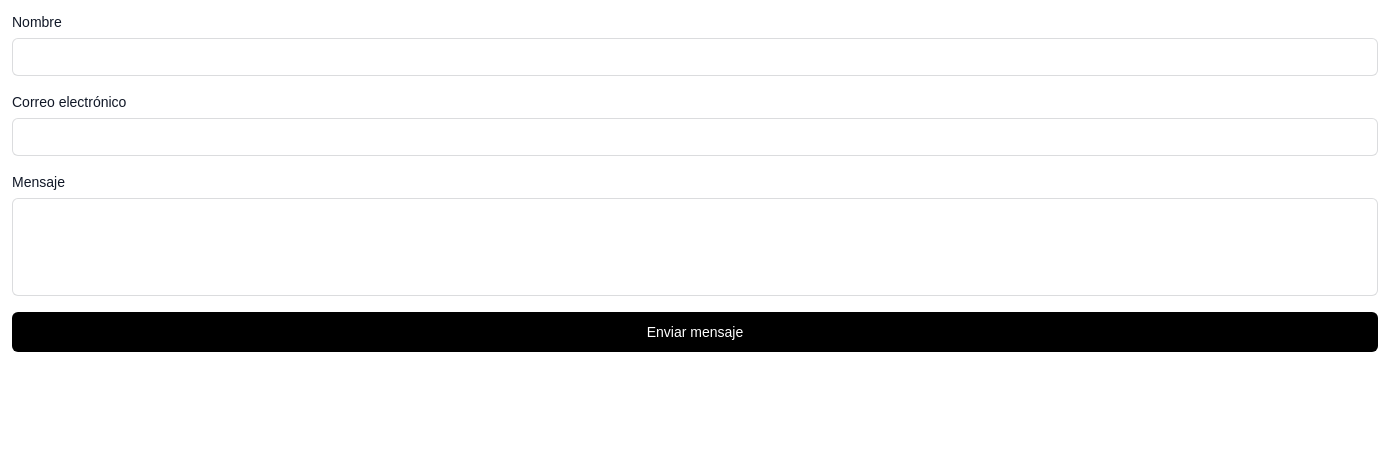
ContactFormSection › shows generic error alert when fetch returns non-ok
Type "Jane Doe" into the field below "Nombre". click: {"x": 695, "y": 57}
box: [12,38,1378,76]
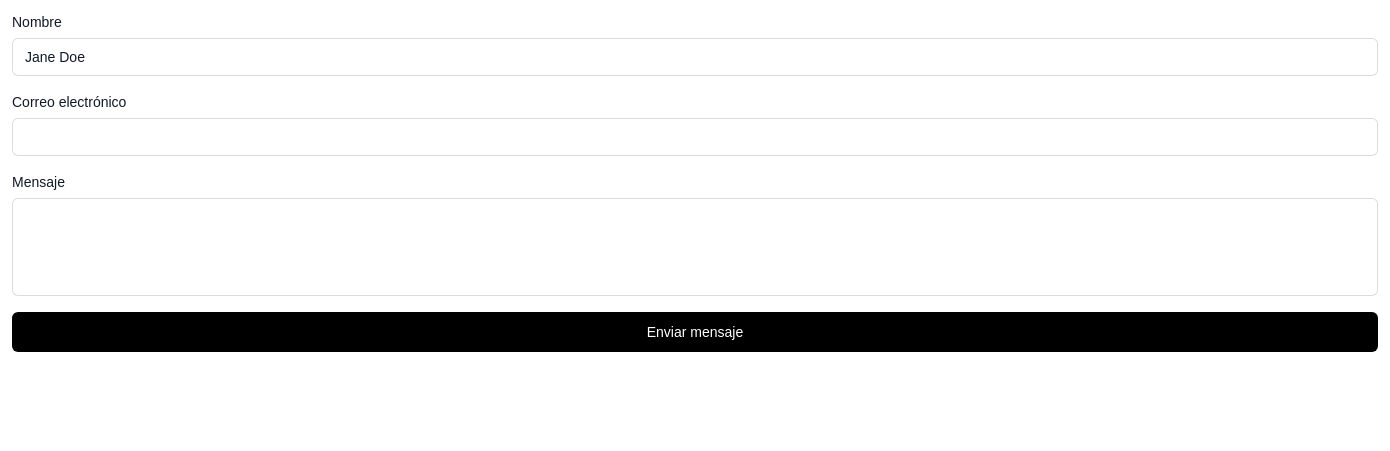
Type "jane@example.com" into the field below "Correo electrónico". click: {"x": 695, "y": 137}
box: [12,118,1378,156]
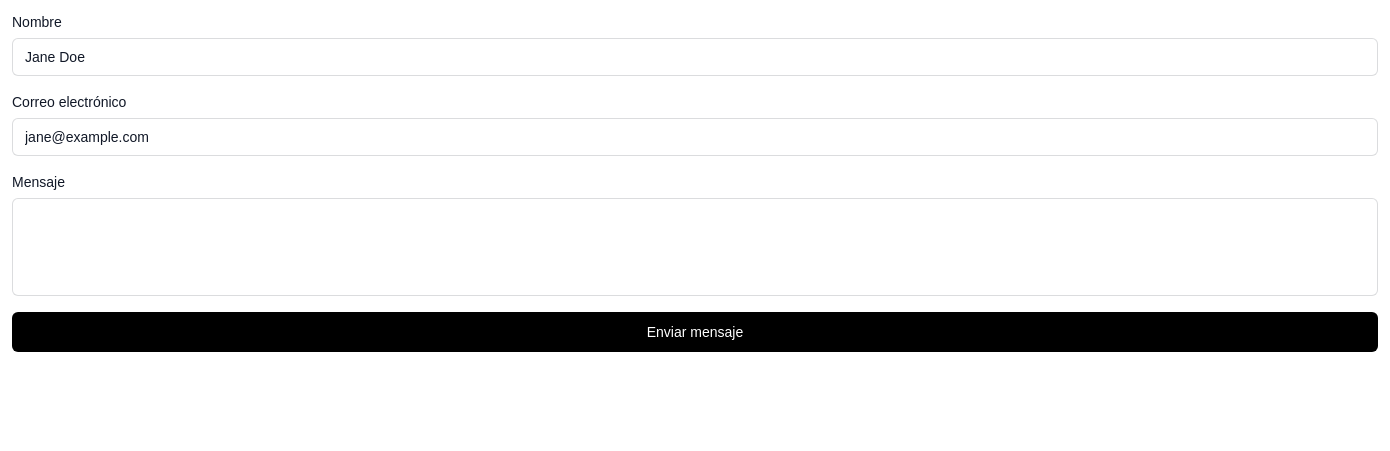
Type "Hello there" into the text box. click: {"x": 695, "y": 247}
box: [12,198,1378,296]
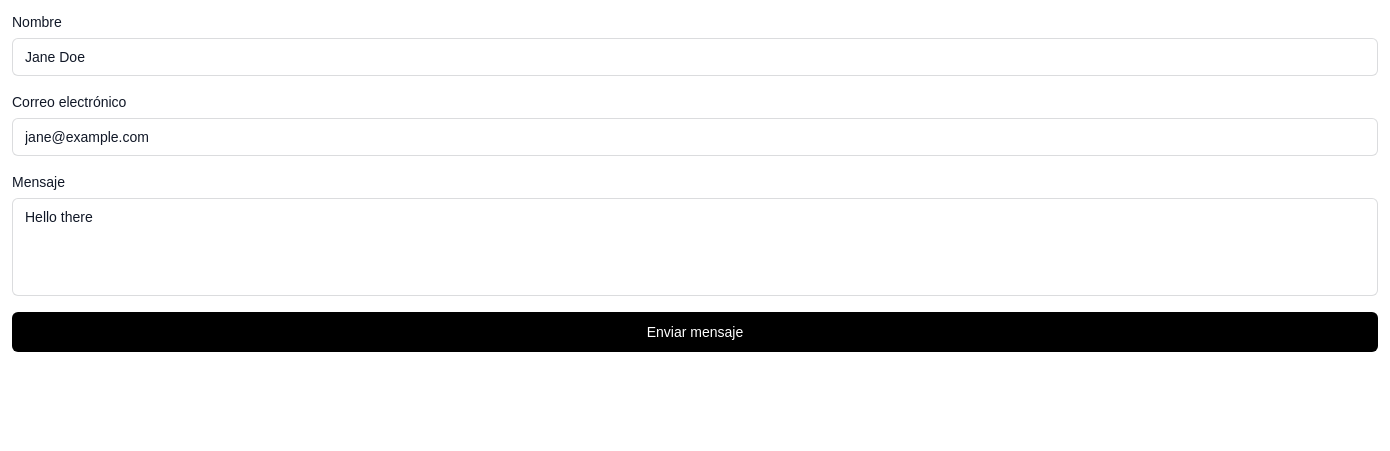
Submit the form
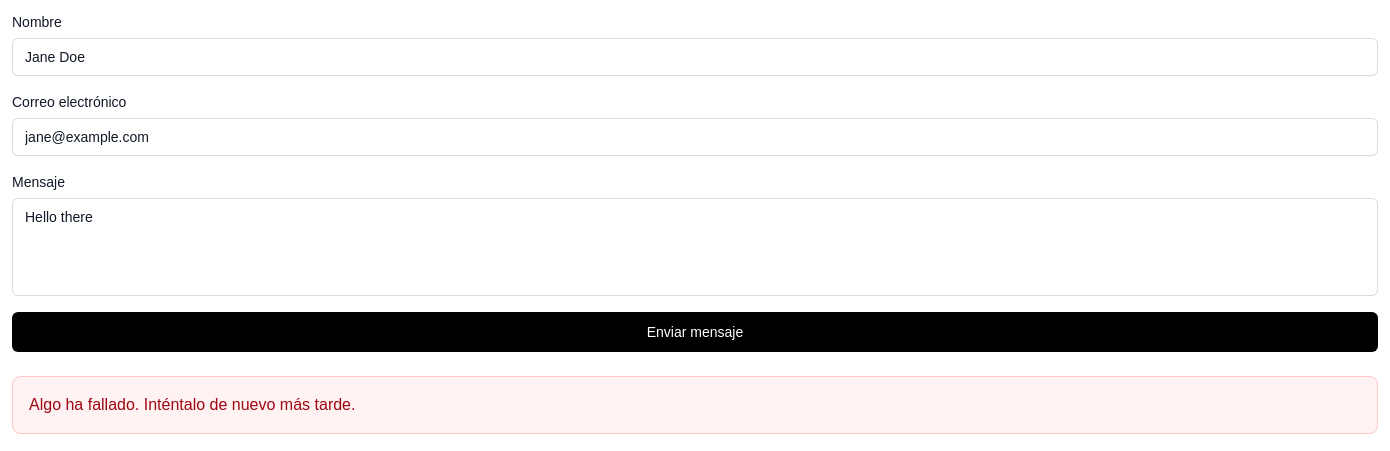
Expected: the text "Algo ha fallado. Inténtalo de nuevo más tarde." is shown, [29,396,356,413]
